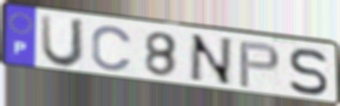8: (142, 30, 180, 79)
C: (89, 24, 134, 73)
N: (186, 32, 235, 88)
P: (237, 40, 283, 90)
S: (287, 47, 330, 98)
U: (38, 12, 87, 70)
